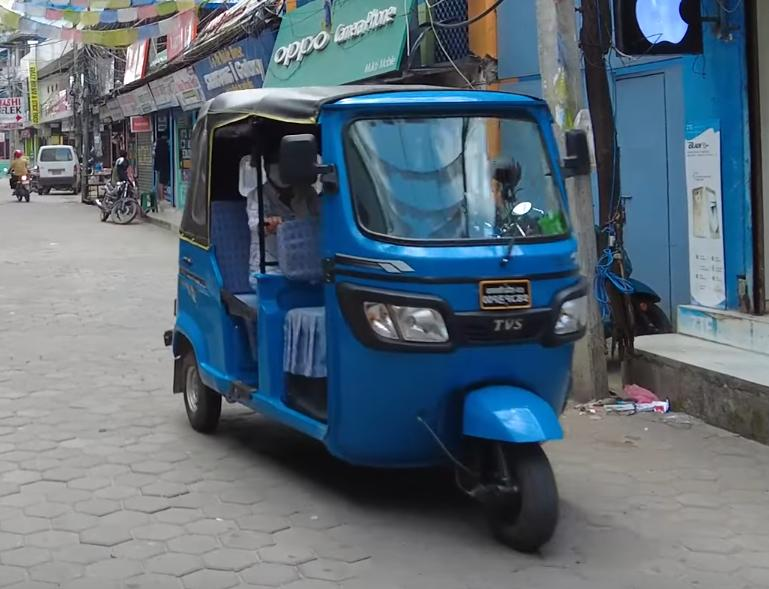auto_rickshaw: (157, 78, 602, 563)
bike: (97, 176, 139, 227), (3, 163, 33, 204)
van: (29, 143, 80, 193)
